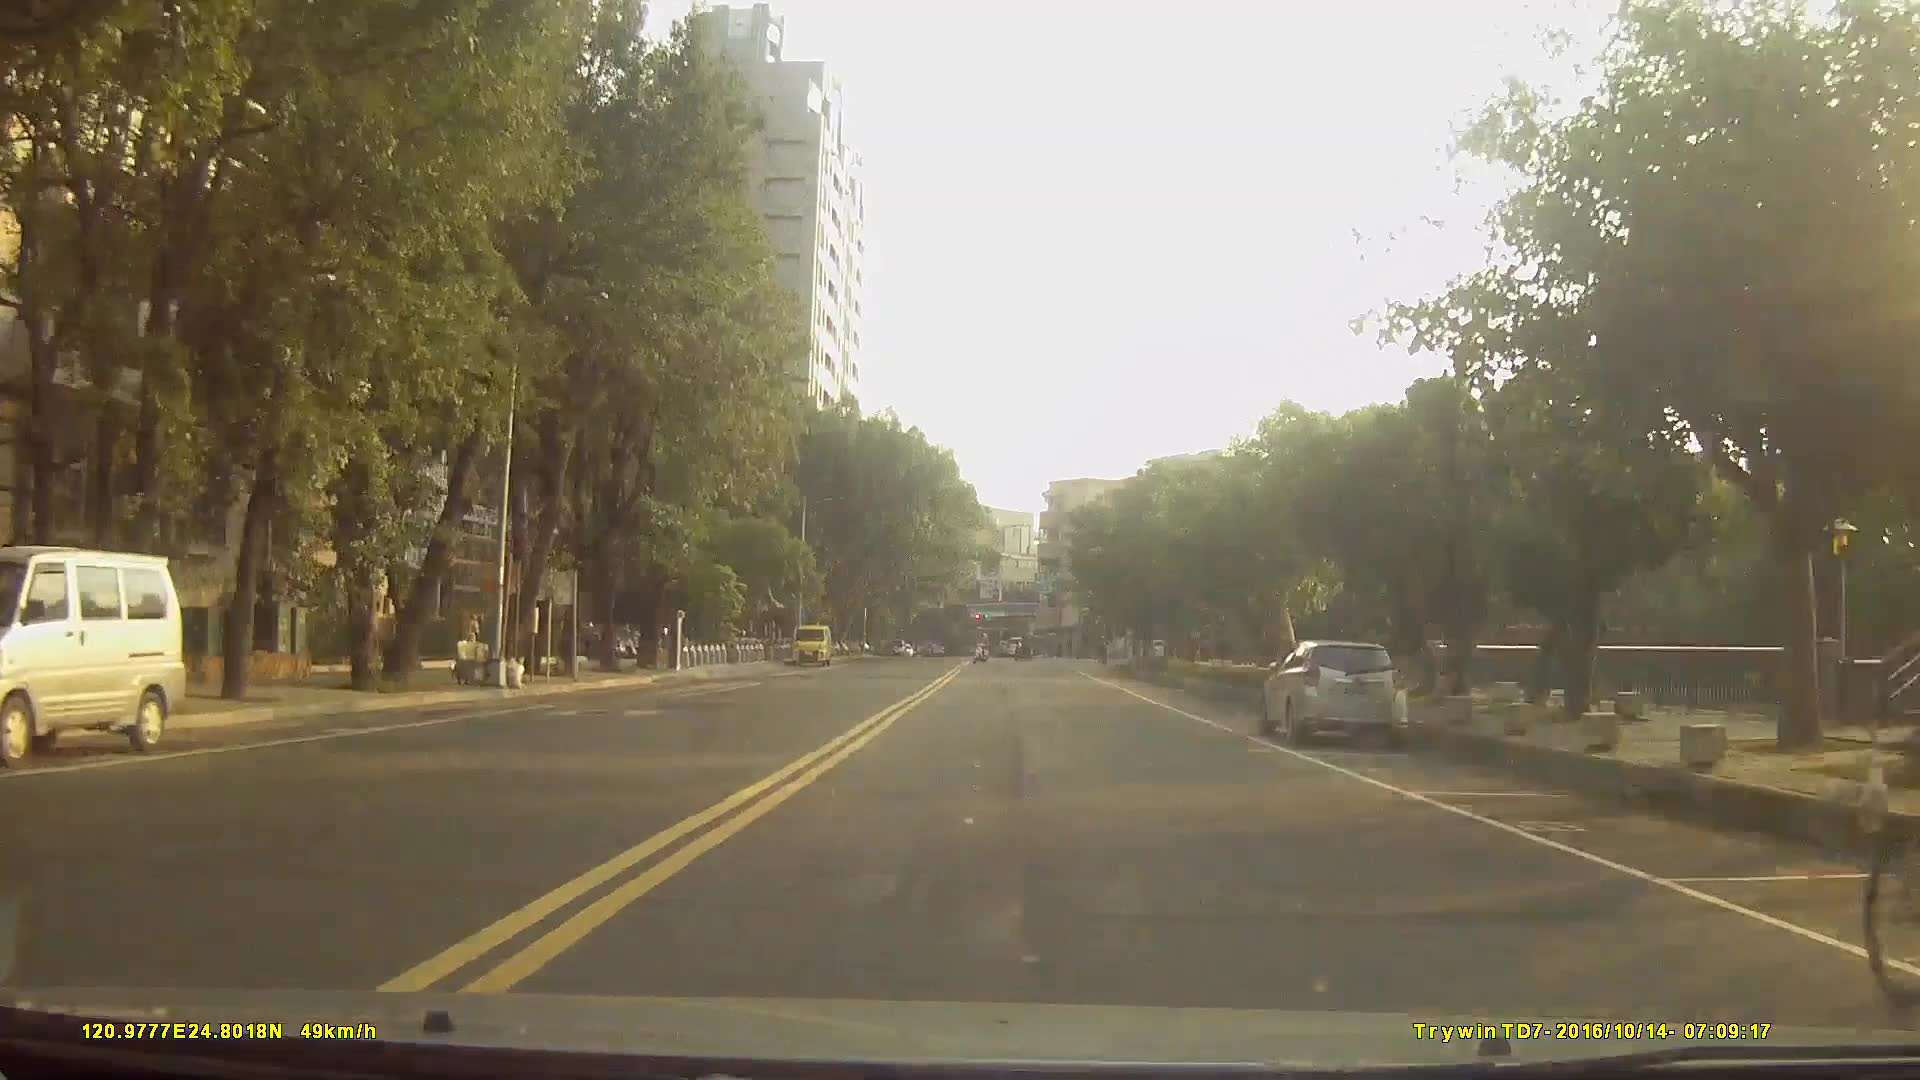rider: (1862, 522, 1920, 997)
vehicle: (0, 542, 188, 766), (1257, 636, 1413, 748), (1003, 633, 1030, 658)
